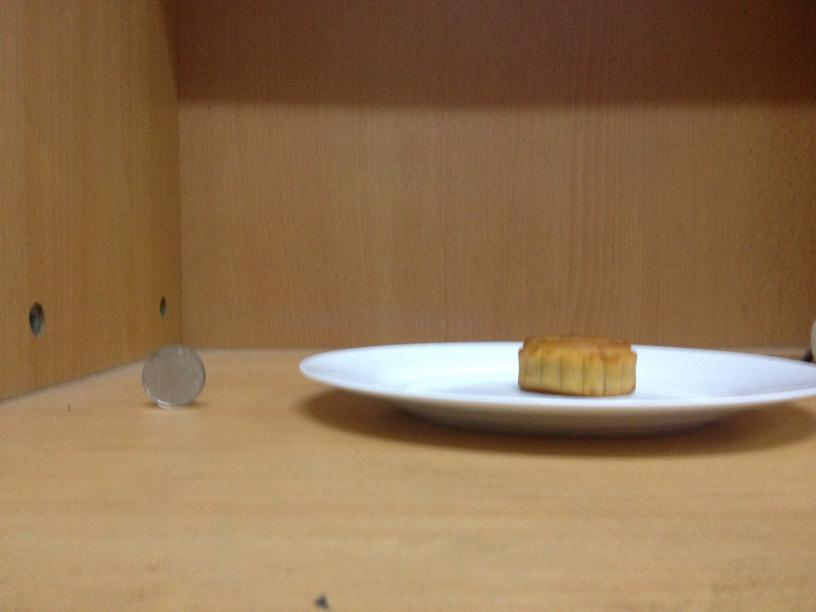coin: (141, 345, 207, 406)
mooncake: (516, 331, 638, 397)
